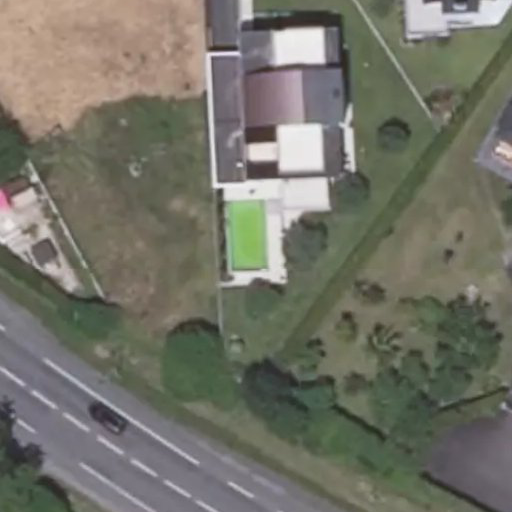pool: (236, 205, 275, 277)
